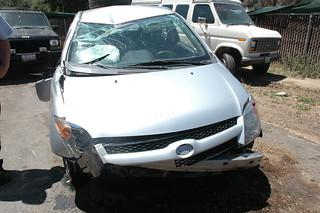Front-Windscreen-Damage: (76, 12, 161, 67)
front-bumper-dent: (54, 133, 224, 174)
